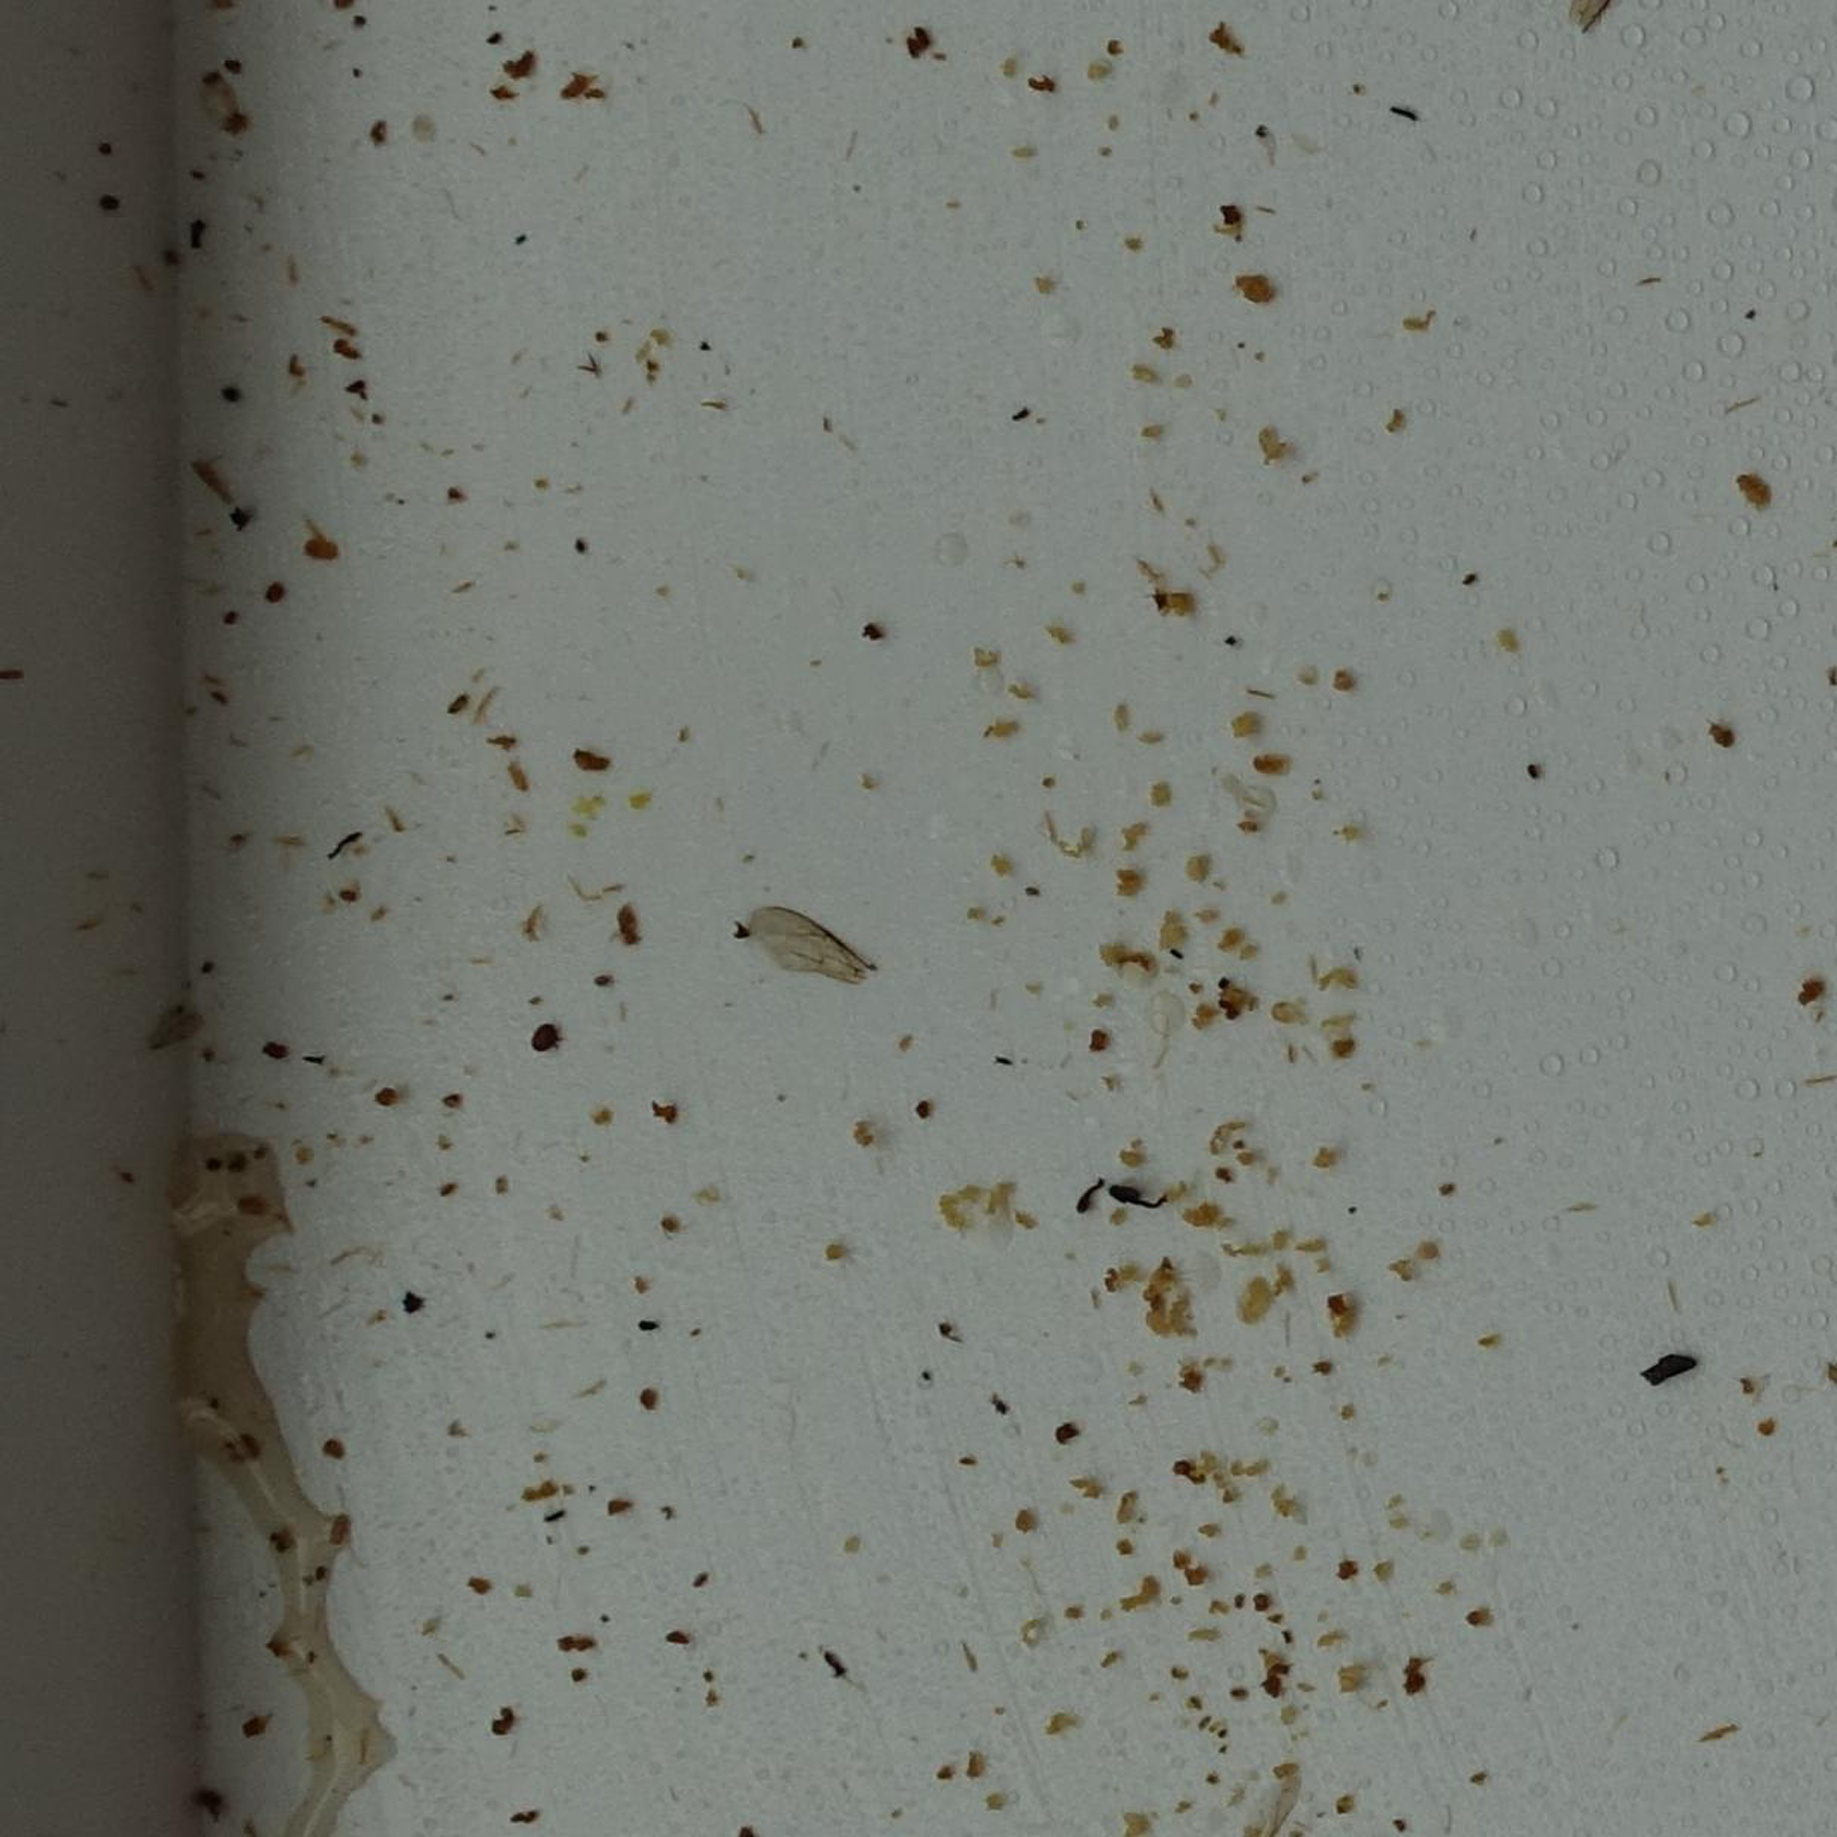Varroa: (528, 1023, 555, 1050)
